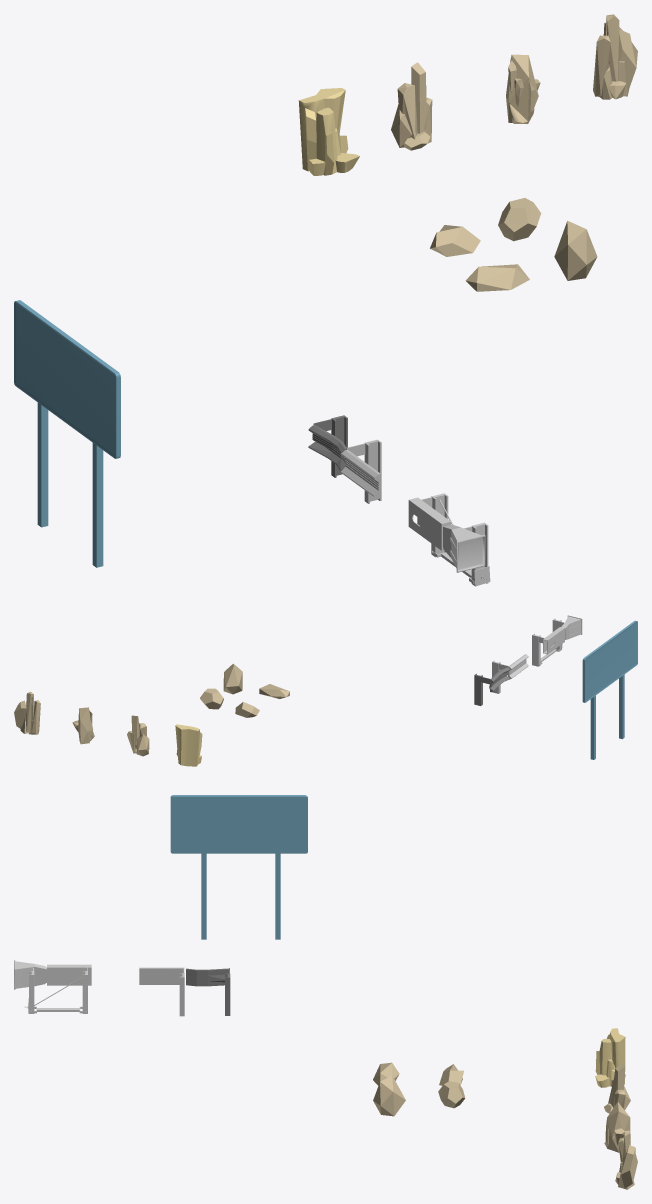
The model's file is ProjectFrontierAssets1.fbx.
3 renders of one model, top to bottom at view 1: azimuth 30°, elevation 25°; view 2: azimuth 150°, elevation 25°; view 3: azimuth 270°, elevation 25°, orthographic. The views are drawn at different scales.
Visible parts, largest first — view 1: WelcomeToV, RailingMashBeam1, RockLarge1, RockLarge4, RockLarge2, RockLarge3, RailingShort9, RockSmall2, RailingShortBent, RockSmall4, RockSmall1, RockSmall3; view 2: WelcomeToV, RailingMashBeam1, RockLarge1, RockLarge4, RockLarge2, RailingShortBent, RockLarge3, RockSmall2, RailingShort9, RockSmall4, RockSmall1, RockSmall3; view 3: WelcomeToV, RailingMashBeam1, RockLarge1, RailingShort9, RailingShortBent, RockSmall2, RockLarge4, RockLarge3, RockLarge2.
Boxes of the visible parts, x1,y1,x2,y2 form: WelcomeToV: (14, 300, 120, 567); RailingMashBeam1: (408, 493, 490, 586); RockLarge1: (298, 88, 359, 175); RockLarge4: (593, 14, 637, 99); RockLarge2: (391, 62, 432, 150); RockLarge3: (506, 54, 540, 123); RailingShort9: (340, 439, 381, 503); RockSmall2: (554, 220, 597, 280); RailingShortBent: (308, 415, 347, 477); RockSmall4: (498, 198, 541, 241); RockSmall1: (465, 264, 529, 291); RockSmall3: (430, 225, 480, 256); WelcomeToV: (582, 620, 637, 759); RailingMashBeam1: (532, 615, 582, 666); RockLarge1: (175, 724, 202, 766); RockLarge4: (14, 691, 40, 734); RockLarge2: (127, 715, 149, 756); RailingShortBent: (474, 667, 510, 705); RockLarge3: (72, 707, 94, 744); RockSmall2: (223, 663, 242, 694); RailingShort9: (492, 654, 528, 693); RockSmall4: (200, 688, 223, 709); RockSmall1: (259, 684, 289, 698); RockSmall3: (235, 702, 259, 717); WelcomeToV: (170, 795, 307, 939); RailingMashBeam1: (14, 960, 91, 1013); RockLarge1: (595, 1028, 625, 1087); RailingShort9: (139, 967, 184, 1016); RailingShortBent: (186, 968, 230, 1015); RockSmall2: (373, 1075, 405, 1116); RockLarge4: (615, 1130, 637, 1189); RockLarge3: (604, 1102, 630, 1152); RockLarge2: (604, 1064, 630, 1113).
Size of the model in its own units: 23.34 by 5.44 by 21.77.
